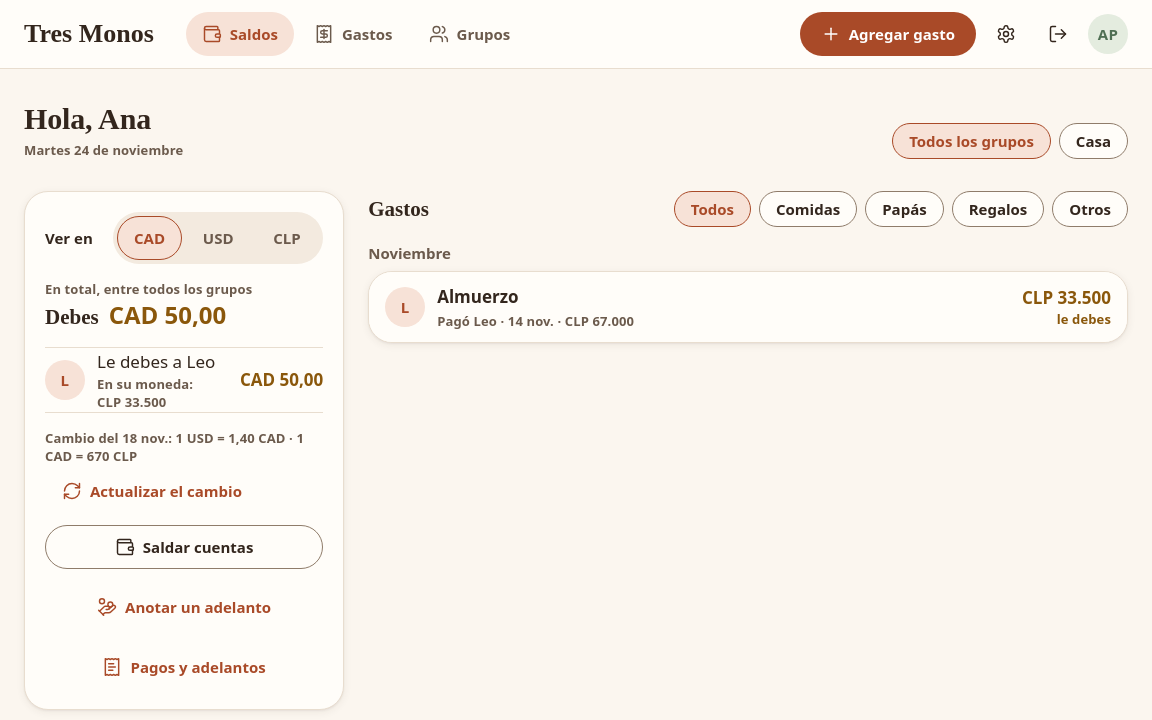
Test: DashboardScreen › exchange rates › says the rates were already current, and still shows any saved since the last read
The image size is (1152, 720).
Click the button "Actualizar el cambio".
click(152, 491)  # box [45, 473, 259, 509]
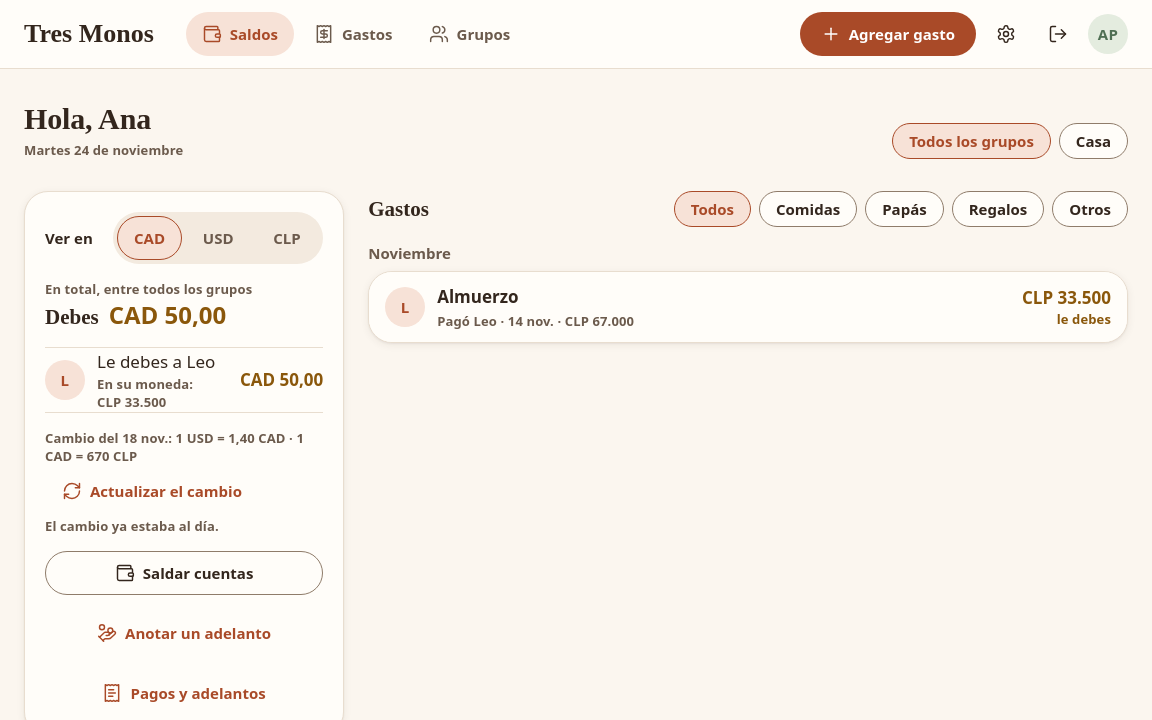
Check: the text "El cambio ya estaba al día." is shown, box [45, 517, 219, 535]
